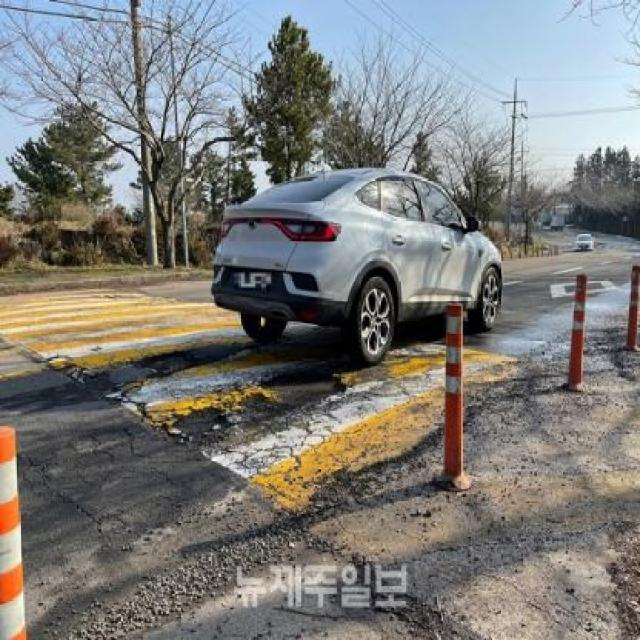Pothole: (164, 392, 238, 454), (259, 362, 350, 404), (140, 345, 203, 380)
